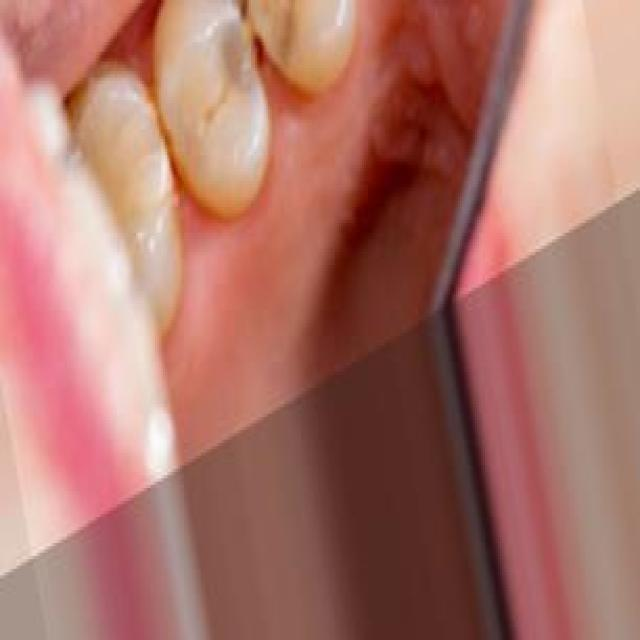caries: (190, 0, 302, 126)
